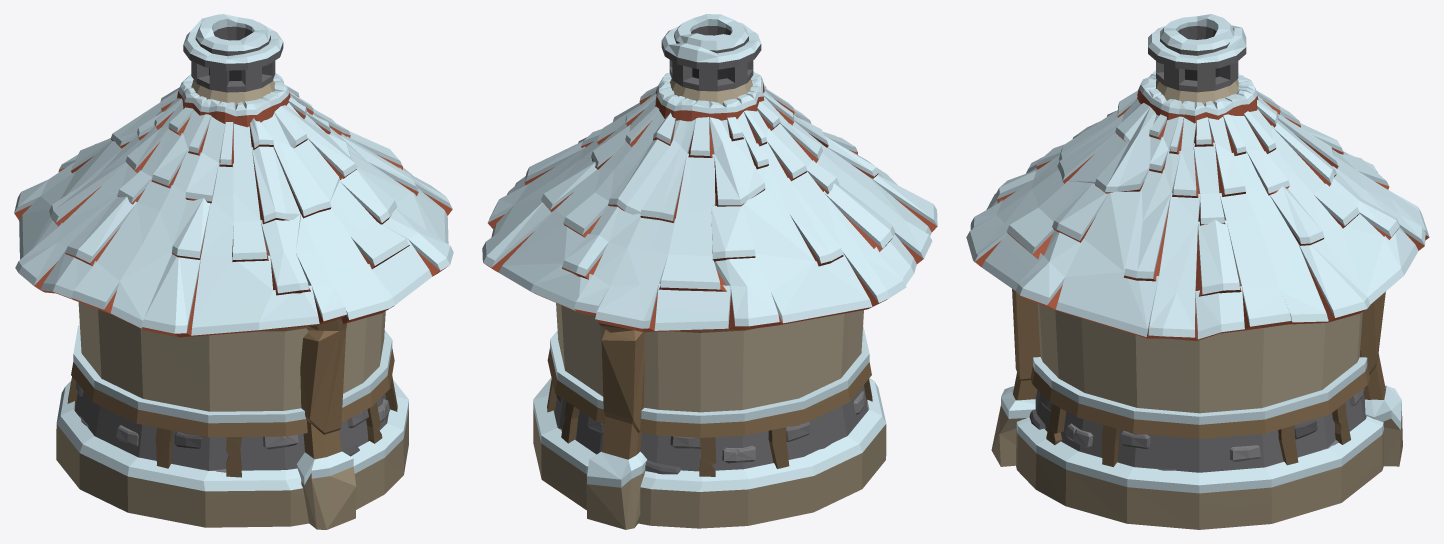
File: SM_Bld_House_RoomRound_01_Snow.gltf
3 renders of one model, left to right at view 1: azimuth 30°, elevation 25°; view 2: azimuth 150°, elevation 25°; view 3: azimuth 270°, elevation 25°, orthographic.
Parts seen in each view (by area): view 1: SM_Bld_House_RoomRound_01_Snow; view 2: SM_Bld_House_RoomRound_01_Snow; view 3: SM_Bld_House_RoomRound_01_Snow.
Part boxes in pixels (x1,y1,x2,y2): SM_Bld_House_RoomRound_01_Snow: [14, 14, 453, 529]; SM_Bld_House_RoomRound_01_Snow: [482, 14, 937, 529]; SM_Bld_House_RoomRound_01_Snow: [966, 14, 1429, 529].
Size of the model in its own units: 5.14 by 5.26 by 5.16.
1 material, 1 textured.
